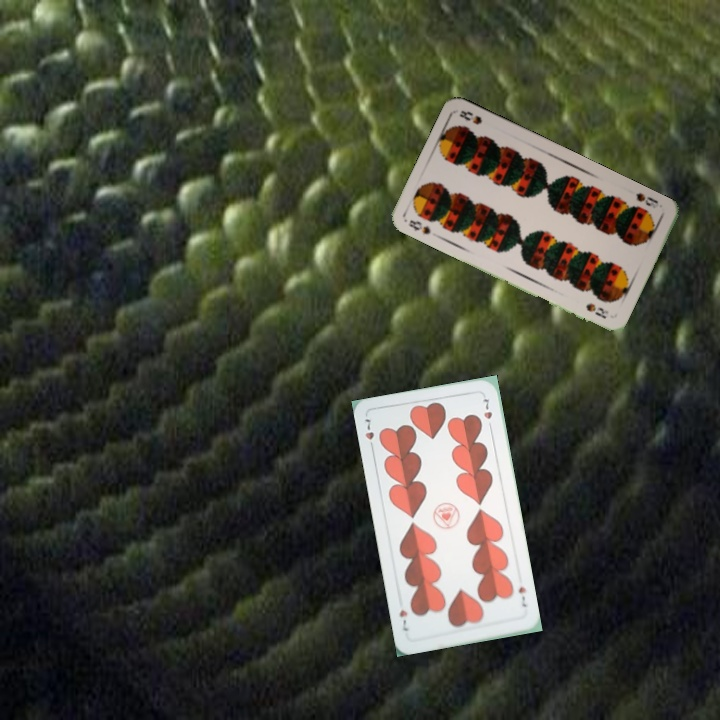H7: (360, 414, 377, 453), (514, 583, 529, 609)
S8: (632, 188, 665, 211), (404, 216, 433, 237)
